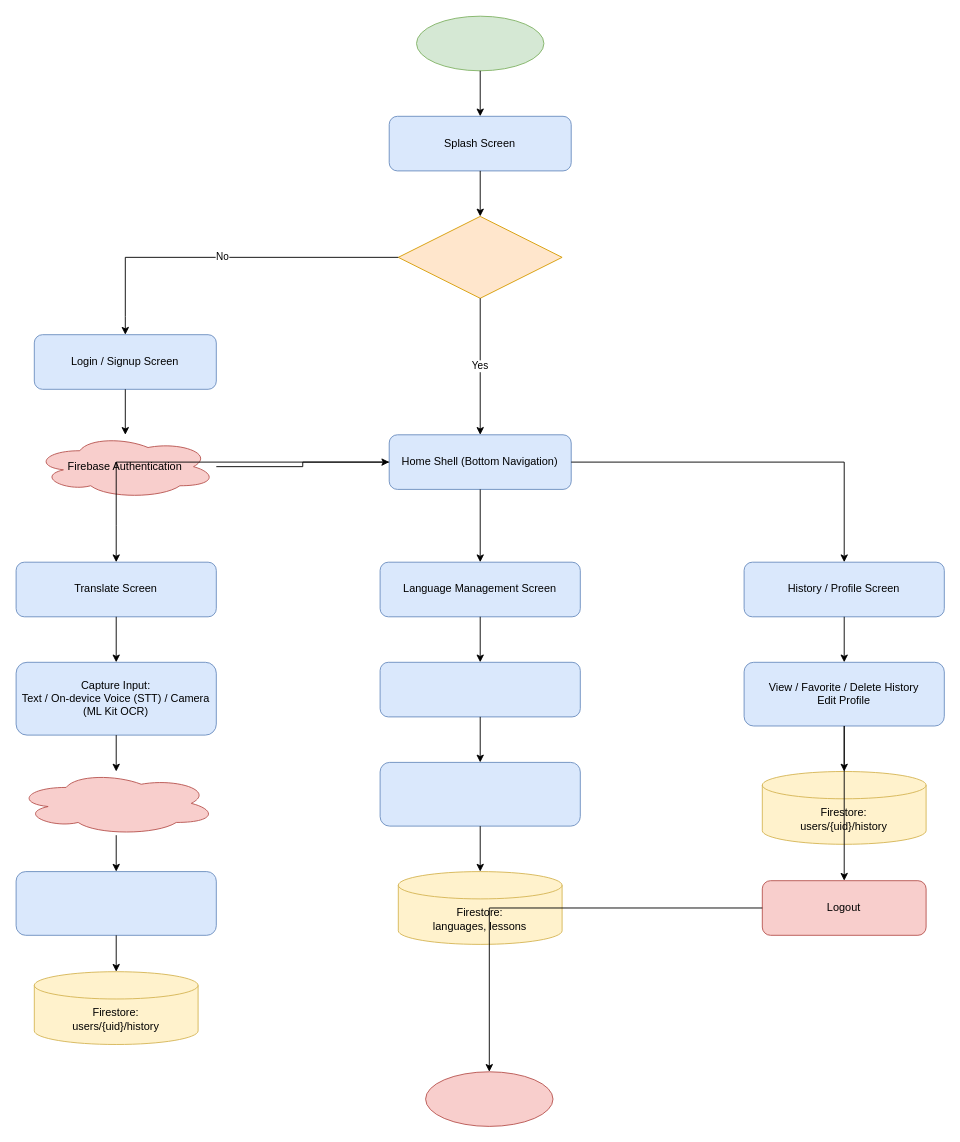
This 960x1142 diagram has some shape labels left out. The shapes that lost their labels are listed below. From the top down, each one's box as (x1, y1, x2, y2) in pixels, then its label:
(416, 15, 544, 71): Start
(397, 215, 562, 298): User Authenticated?
(379, 661, 580, 717): Select Language Module
(15, 771, 216, 835): Google Cloud Translation API
(379, 761, 580, 826): Manage Lessons (View / Add / Edit / Delete)
(15, 871, 216, 935): Display Translated Text (+ optional Text-to-Speech playback)
(425, 1071, 553, 1126): End
